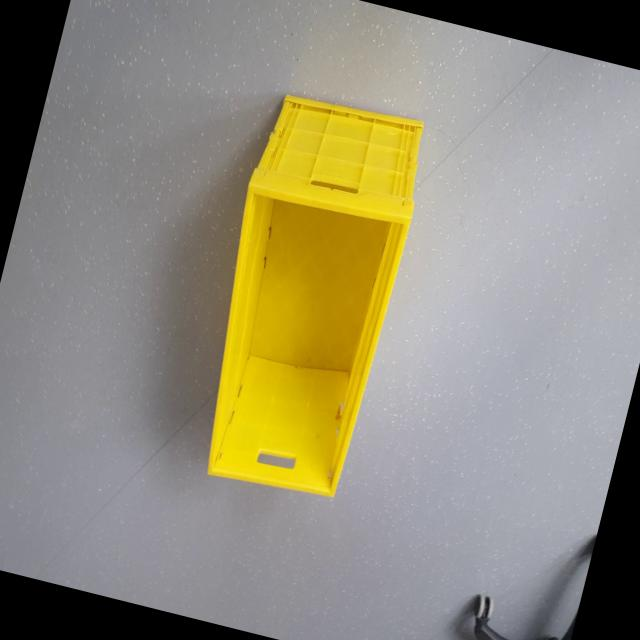box: (168, 68, 443, 530)
